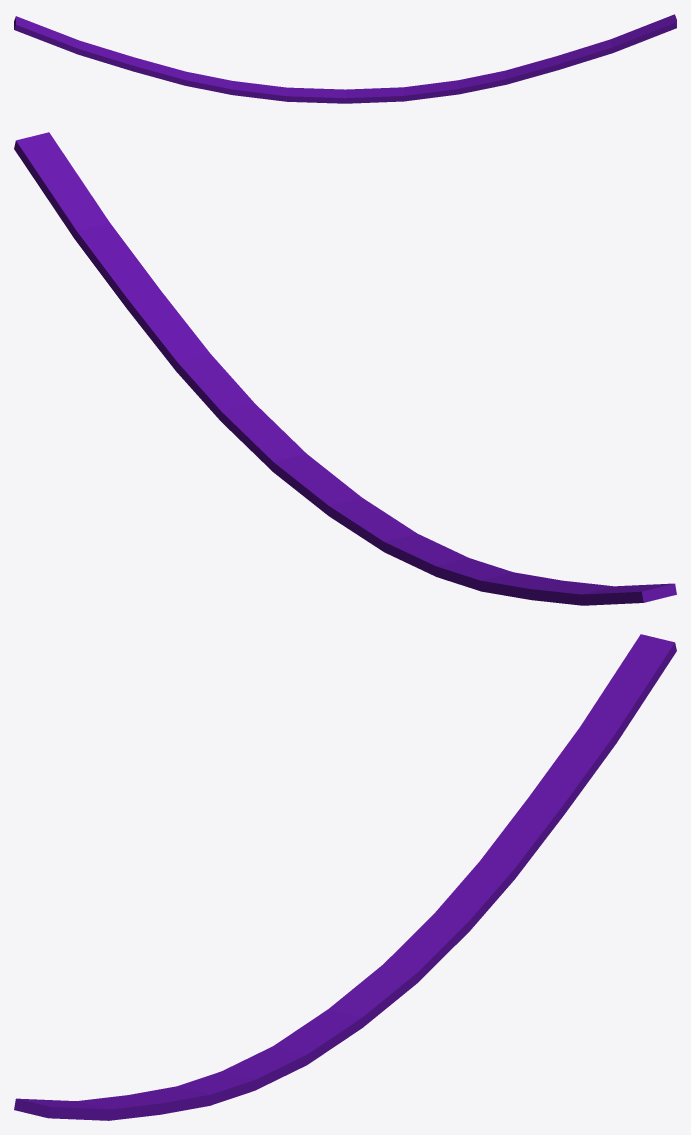
The model's file is Tape_22.fbx.
3 renders of one model, top to bottom at view 1: azimuth 30°, elevation 25°; view 2: azimuth 150°, elevation 25°; view 3: azimuth 270°, elevation 25°, orthographic. The views are drawn at different scales.
Visible parts, largest first — view 1: Tape_22; view 2: Tape_22; view 3: Tape_22.
Boxes of the visible parts, box(x1,y1,x2,y2) form: Tape_22: box(14, 14, 676, 103); Tape_22: box(14, 132, 676, 605); Tape_22: box(14, 634, 676, 1120).
Bounding box in the file's own units: 687 × 103 × 405.
